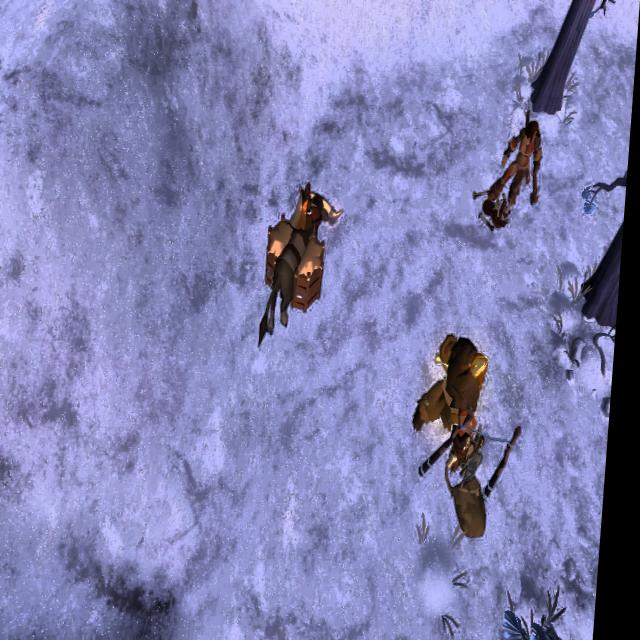enemy_factionKeeper: (418, 325, 498, 454), (498, 113, 549, 211)
